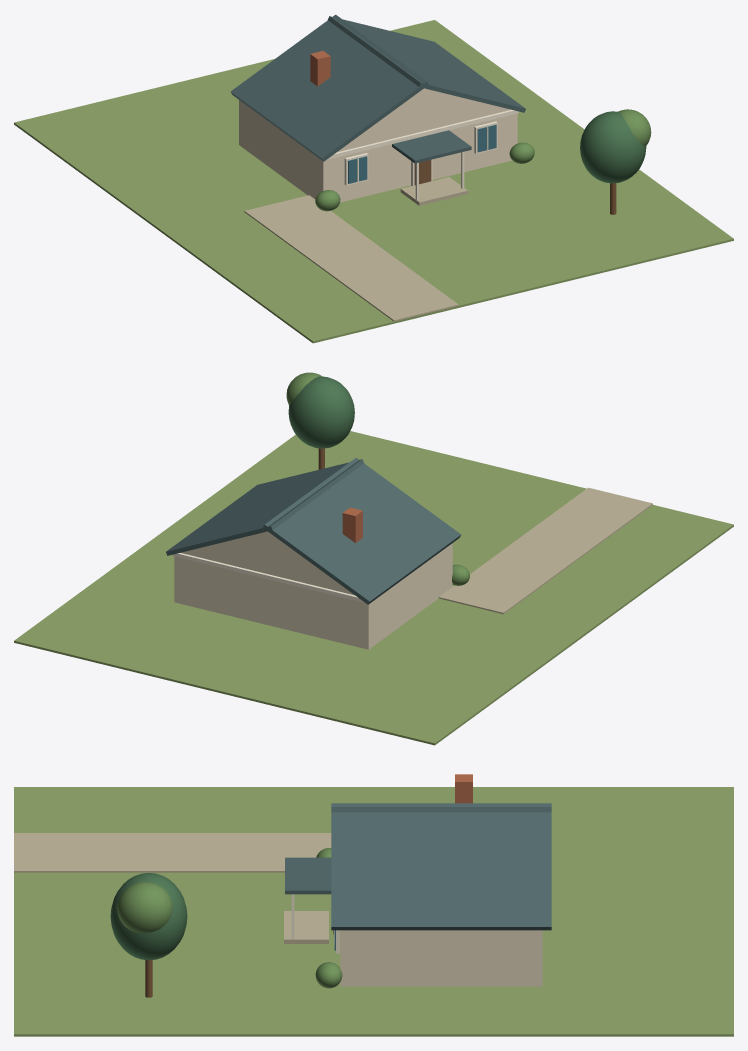
The model's file is low-density-housing.glb.
3 renders of one model, top to bottom at view 1: azimuth 30°, elevation 25°; view 2: azimuth 150°, elevation 25°; view 3: azimuth 270°, elevation 25°, orthographic. The views are drawn at different scales.
Visible parts, largest first — view 1: low-density-housing; view 2: low-density-housing; view 3: low-density-housing.
Part boxes in pixels (<box>): low-density-housing: <box>14,14,733,343</box>; low-density-housing: <box>14,372,733,745</box>; low-density-housing: <box>14,774,733,1036</box>.
Size of the model in its own units: 26 by 6.23 by 32.
